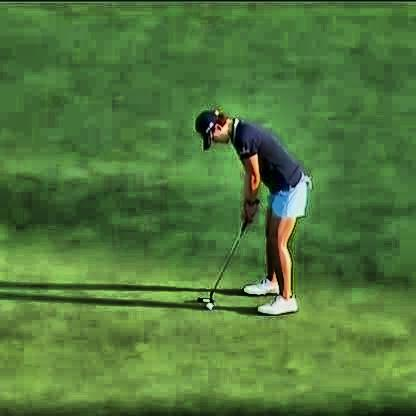golfball: (202, 302, 212, 309)
